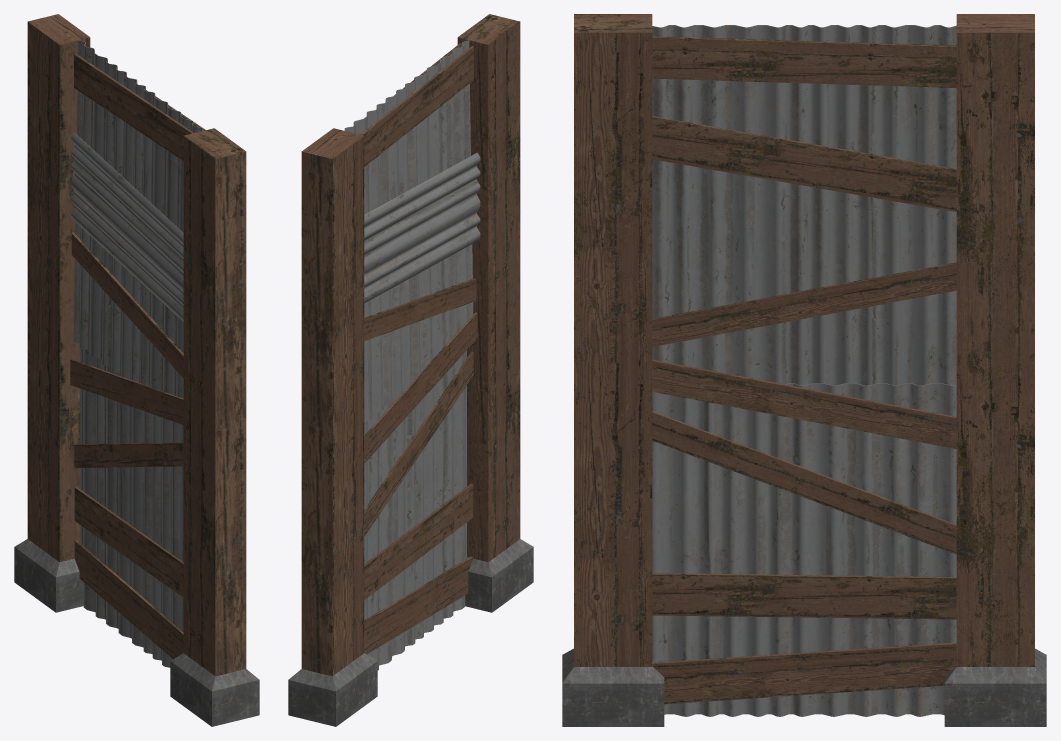
The model's file is Prop_Balcony_Colon_Plate.fbx.
3 renders of one model, left to right at view 1: azimuth 30°, elevation 25°; view 2: azimuth 150°, elevation 25°; view 3: azimuth 270°, elevation 25°, orthographic. The views are drawn at different scales.
Parts seen in each view (by area): view 1: Prop_Balcony_Colon_Plate; view 2: Prop_Balcony_Colon_Plate; view 3: Prop_Balcony_Colon_Plate.
Boxes of the visible parts, <box> form: Prop_Balcony_Colon_Plate: <box>14,14,259,726</box>; Prop_Balcony_Colon_Plate: <box>288,14,533,726</box>; Prop_Balcony_Colon_Plate: <box>562,14,1046,726</box>.
Bounding box in the file's own units: 13.84 × 156 × 99.15.
